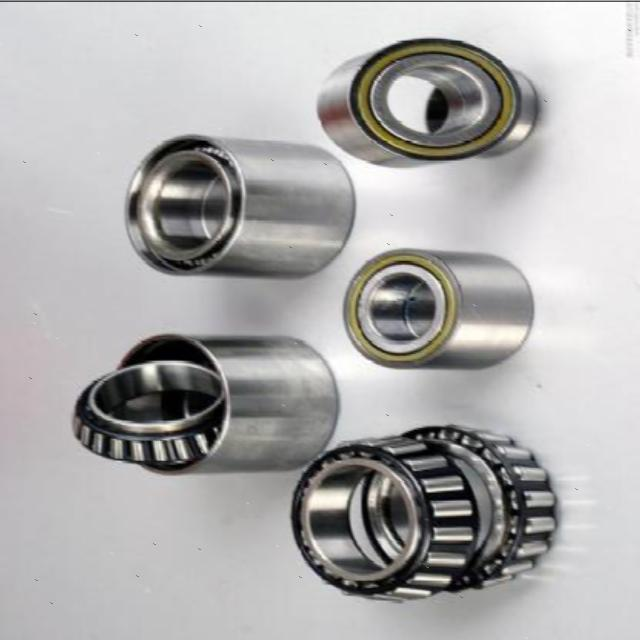Bearing: (119, 130, 358, 276), (360, 422, 560, 594), (288, 430, 477, 602), (317, 33, 537, 168), (342, 246, 534, 370), (68, 353, 226, 468)
